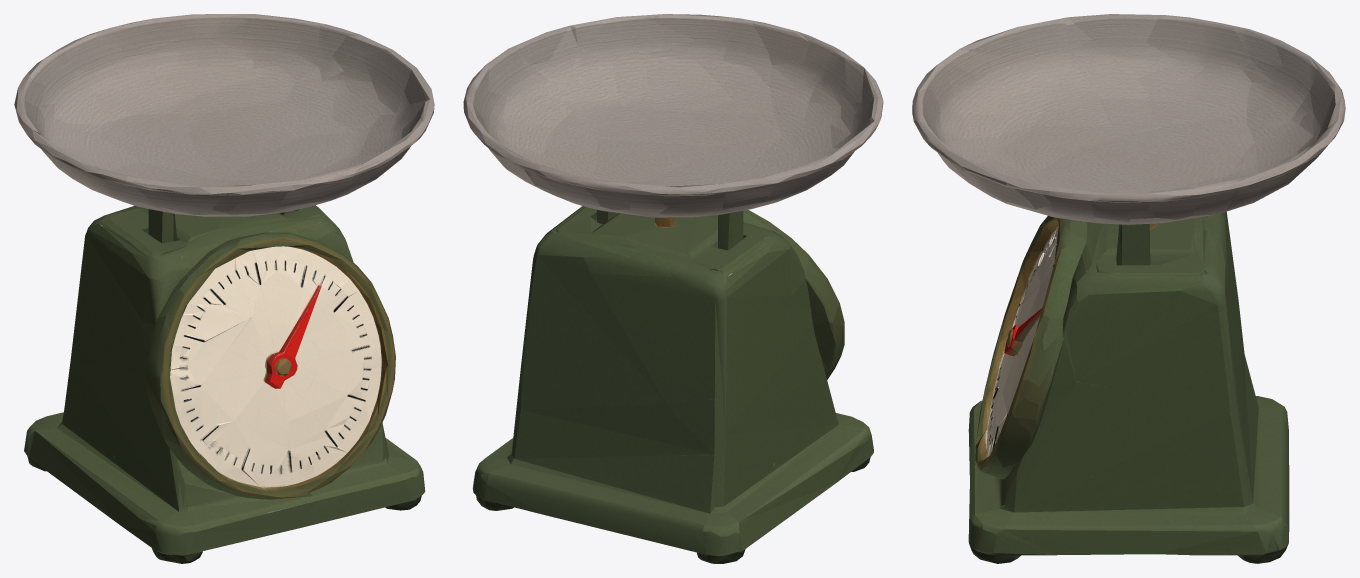
Rendered from weighing_scale.glb.
3 renders of one model, left to right at view 1: azimuth 30°, elevation 25°; view 2: azimuth 150°, elevation 25°; view 3: azimuth 270°, elevation 25°, orthographic. The views are drawn at different scales.
Visible parts, largest first — view 1: output_unwrapped; view 2: output_unwrapped; view 3: output_unwrapped.
Boxes of the visible parts, x1=… form: output_unwrapped: x1=14, y1=14, x2=434, y2=563; output_unwrapped: x1=463, y1=14, x2=883, y2=563; output_unwrapped: x1=912, y1=14, x2=1345, y2=563.
Size of the model in its own units: 1.88 by 1.9 by 1.88.
Materials: 1 (1 with a texture image).
